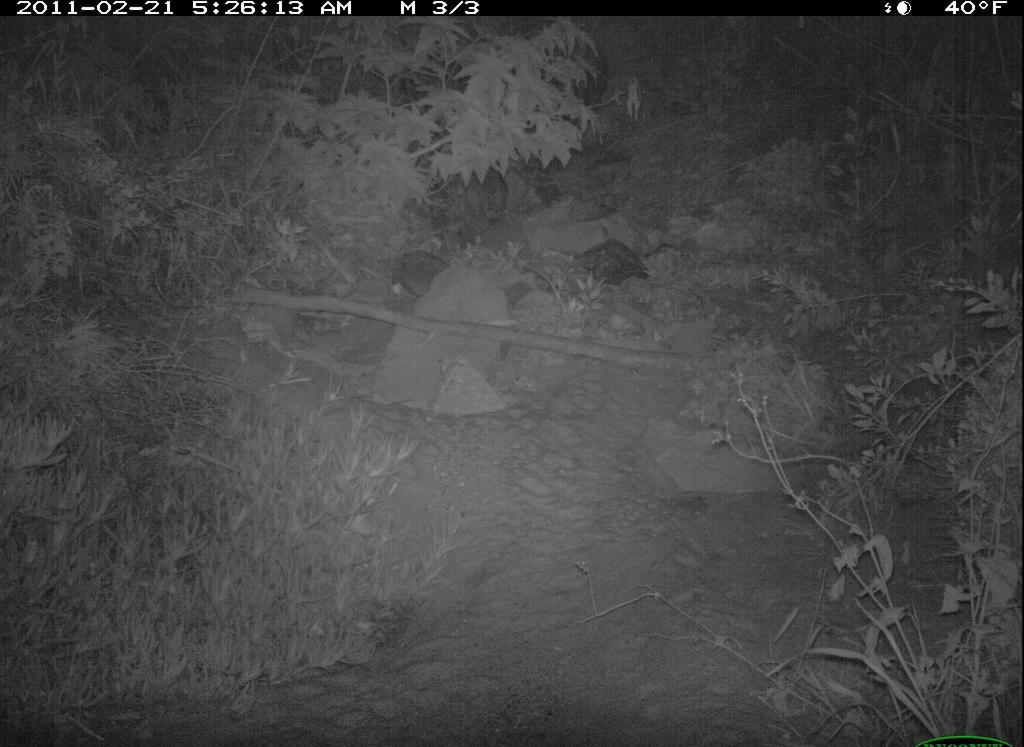raccoon: (464, 161, 511, 226)
